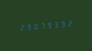nine: (24, 21, 30, 32), (59, 18, 65, 29), (45, 20, 51, 30)
seven: (38, 20, 44, 31)
three: (52, 19, 58, 29)
two: (17, 22, 23, 32), (66, 18, 72, 28)
zero: (31, 21, 37, 31)
